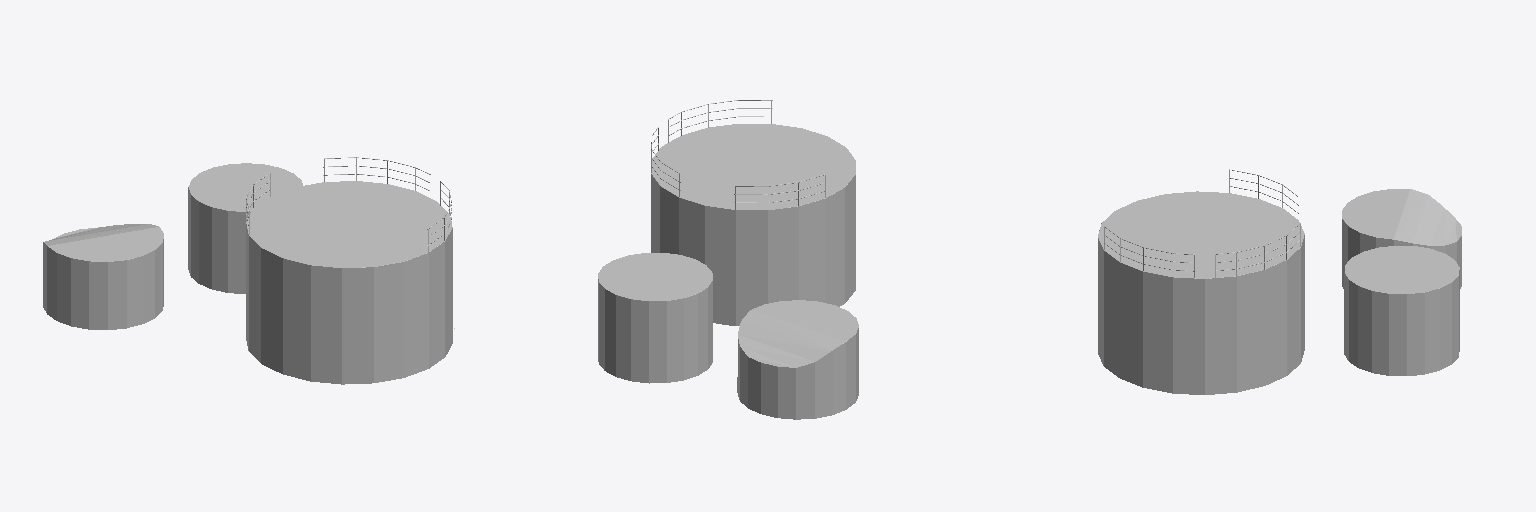
The model's file is Silos_Naked.obj.
3 views of the same model, side by side, from view 1: azimuth 30°, elevation 25°; view 2: azimuth 150°, elevation 25°; view 3: azimuth 270°, elevation 25° (orthographic).
Visible parts, largest first — view 1: polySurface83; view 2: polySurface83; view 3: polySurface83.
Part boxes in pixels (left/top/right/bottom): polySurface83: left=43, top=157, right=454, bottom=384; polySurface83: left=598, top=100, right=858, bottom=419; polySurface83: left=1098, top=169, right=1461, bottom=394.
Size of the model in its own units: 47.41 by 22.41 by 52.14.